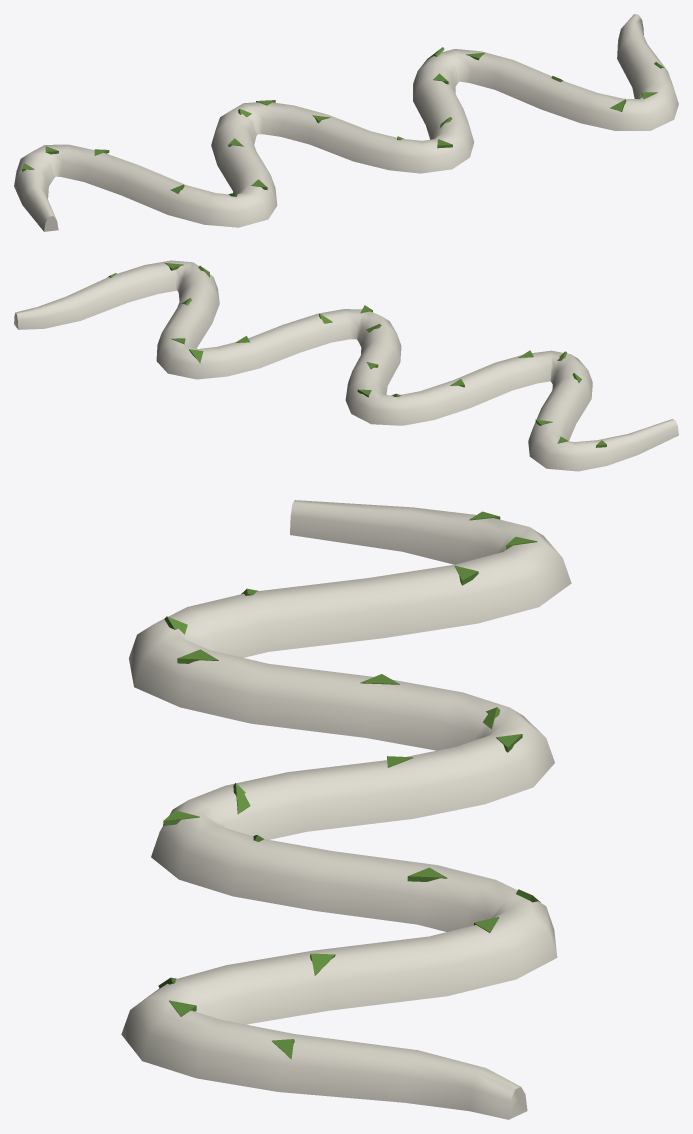
File: Food_Ranch_Ribbon.fbx
The picture shows the model from 3 angles, top to bottom: view 1: azimuth 30°, elevation 25°; view 2: azimuth 150°, elevation 25°; view 3: azimuth 270°, elevation 25°; orthographic projection. The views are drawn at different scales.
Visible parts, largest first — view 1: Sauce, Herbs; view 2: Sauce, Herbs; view 3: Sauce, Herbs.
Part boxes in pixels (<box>): Sauce: <box>14,14,678,231</box>; Herbs: <box>22,47,663,196</box>; Sauce: <box>14,260,678,471</box>; Herbs: <box>107,262,606,447</box>; Sauce: <box>121,500,571,1119</box>; Herbs: <box>158,511,540,1059</box>.
Size of the model in its own units: 203 by 8.22 by 64.81.
